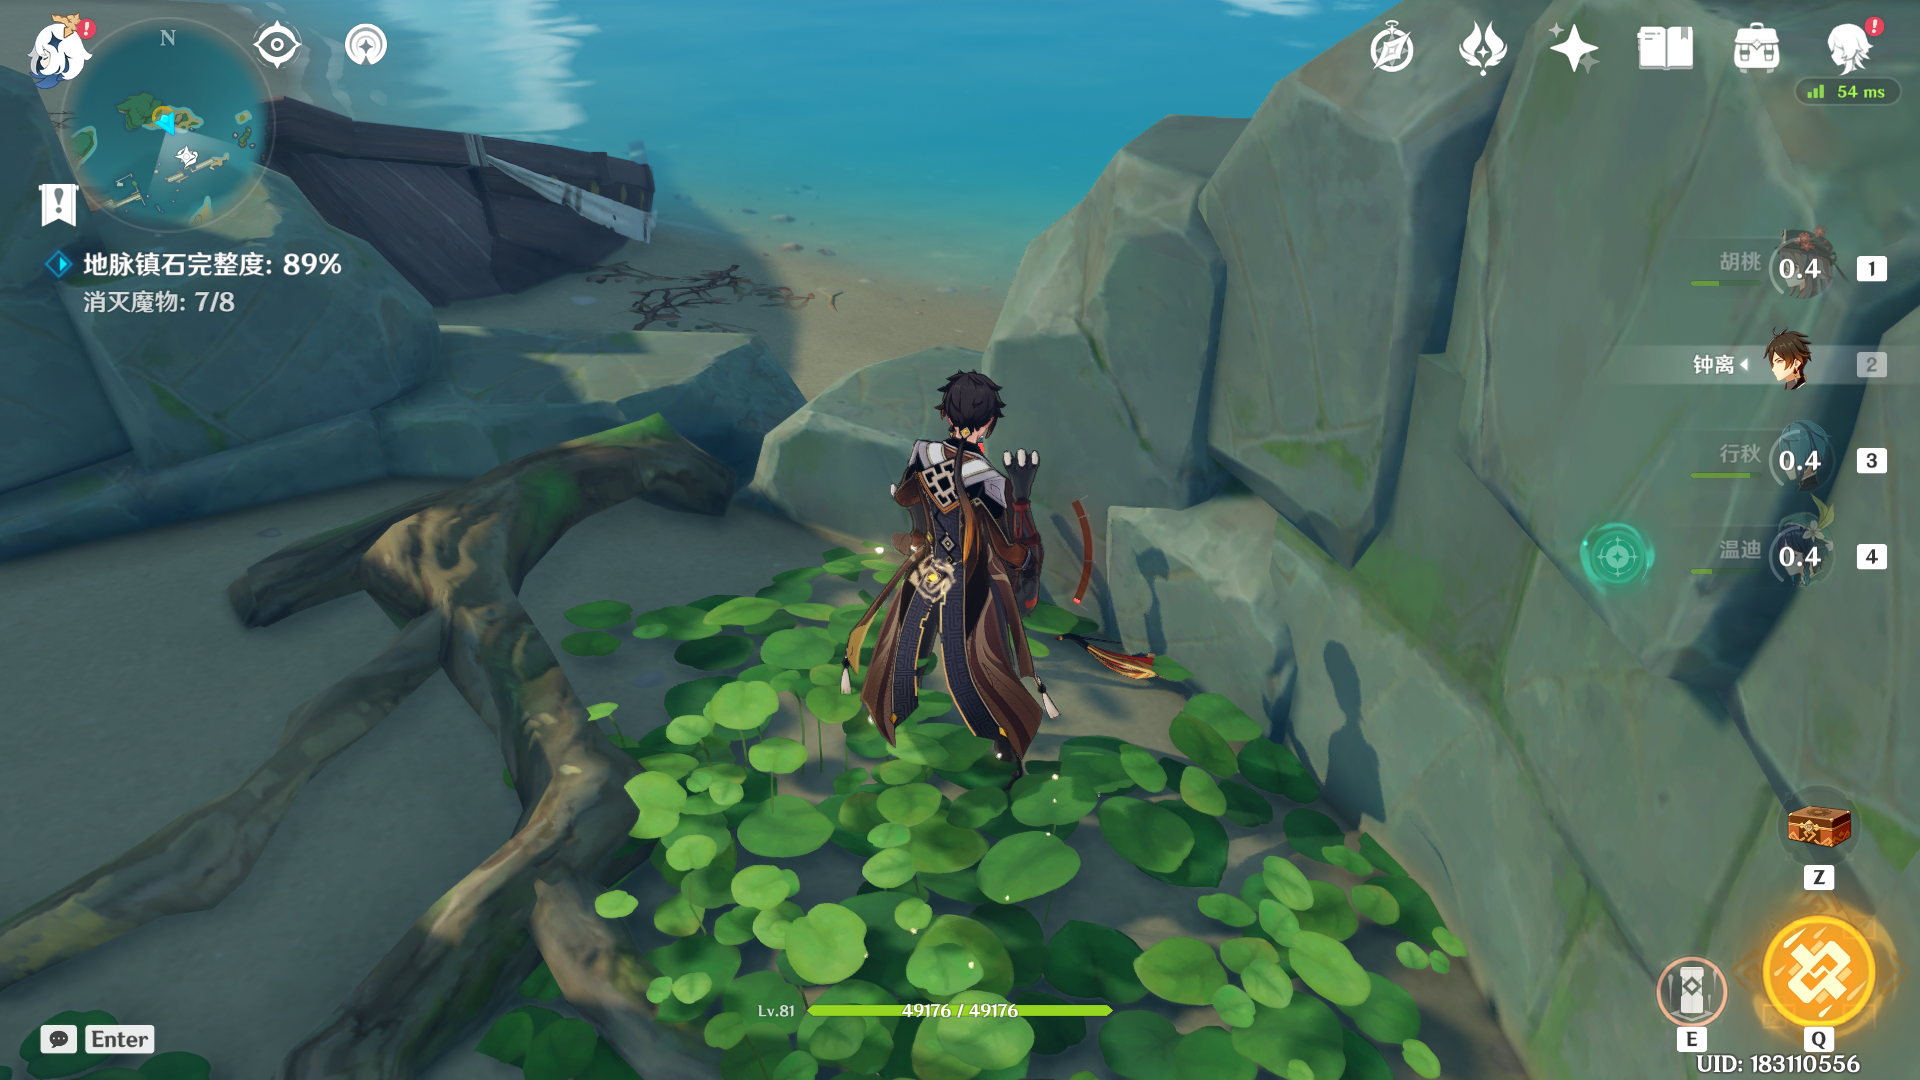character: (807, 332, 1097, 823)
